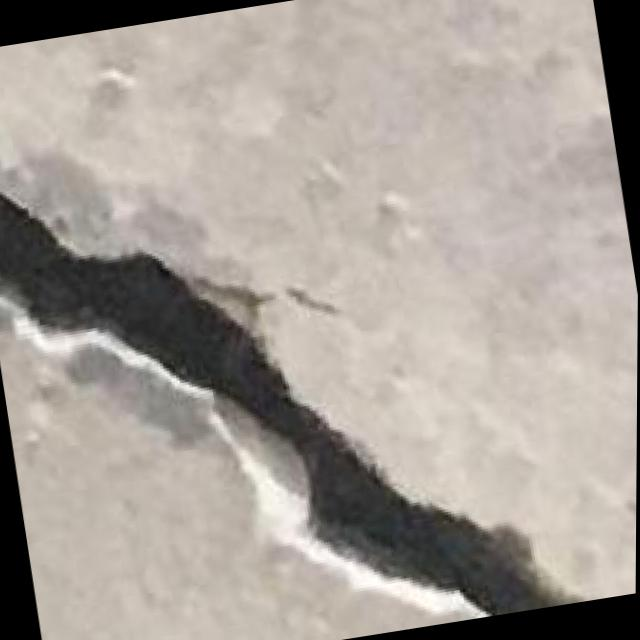Crack: (0, 100, 639, 640)
